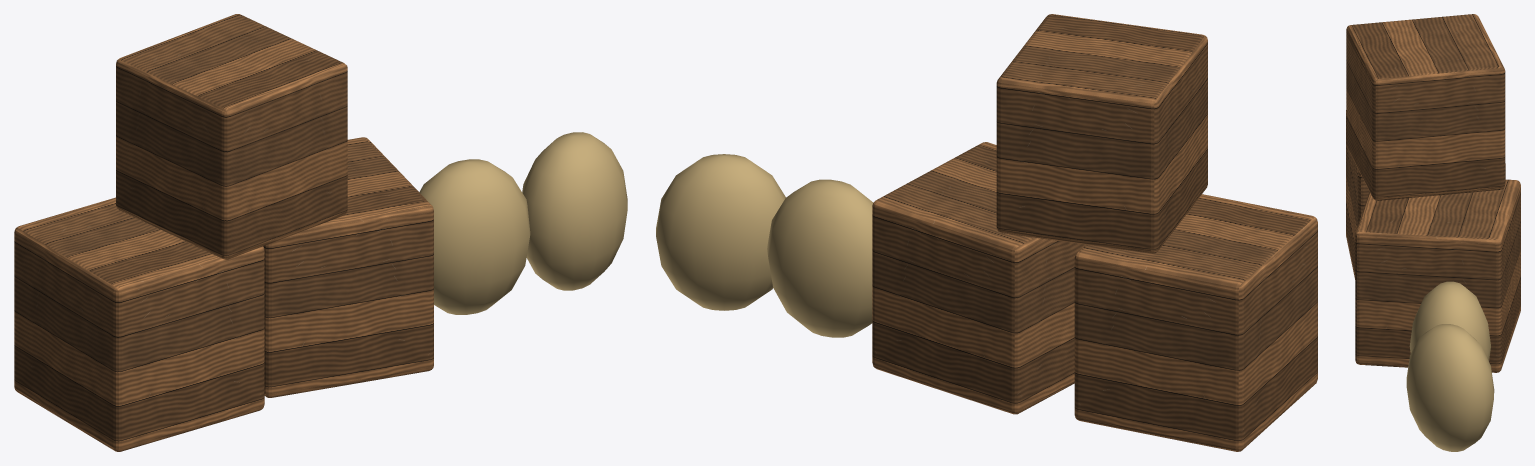
The model's file is Kes.fbx.
The picture shows the model from 3 angles, left to right: view 1: azimuth 30°, elevation 25°; view 2: azimuth 150°, elevation 25°; view 3: azimuth 270°, elevation 25°; orthographic projection. The views are drawn at different scales.
Parts seen in each view (by area): view 1: Kes; view 2: Kes; view 3: Kes.
Boxes of the visible parts, x1,y1,x2,y2 form: Kes: (14, 14, 627, 451); Kes: (656, 14, 1317, 451); Kes: (1346, 14, 1520, 451).
Bounding box in the file's own units: 2.23 × 1.17 × 0.7093.
